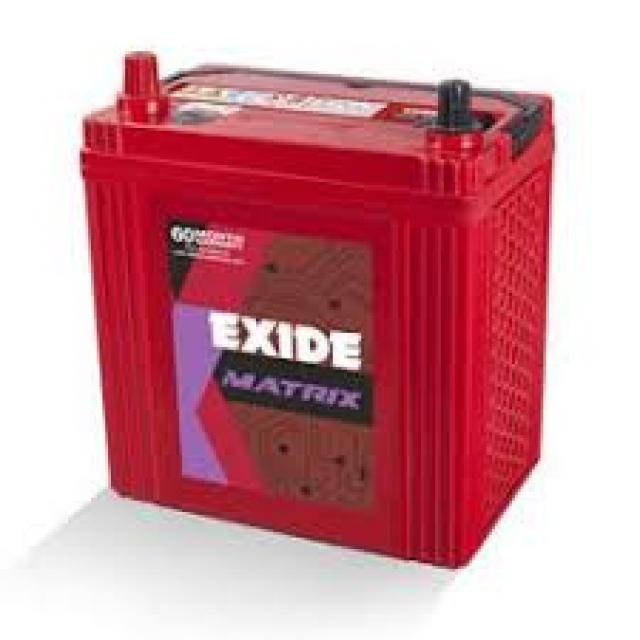battery: (82, 48, 560, 569)
